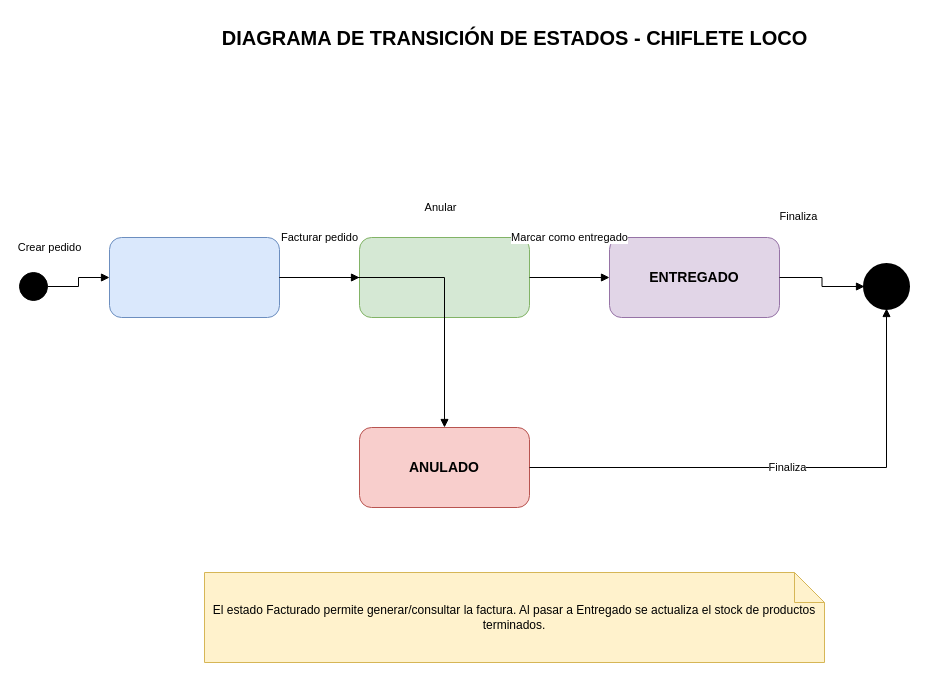
Image size: 927x680. Some labels were removed from this diagram. The box of each missing label's shape, as (x1, y1, x2, y2) in pixels:
FACTURADO: (358, 236, 530, 318)
PENDIENTE: (108, 236, 280, 318)
